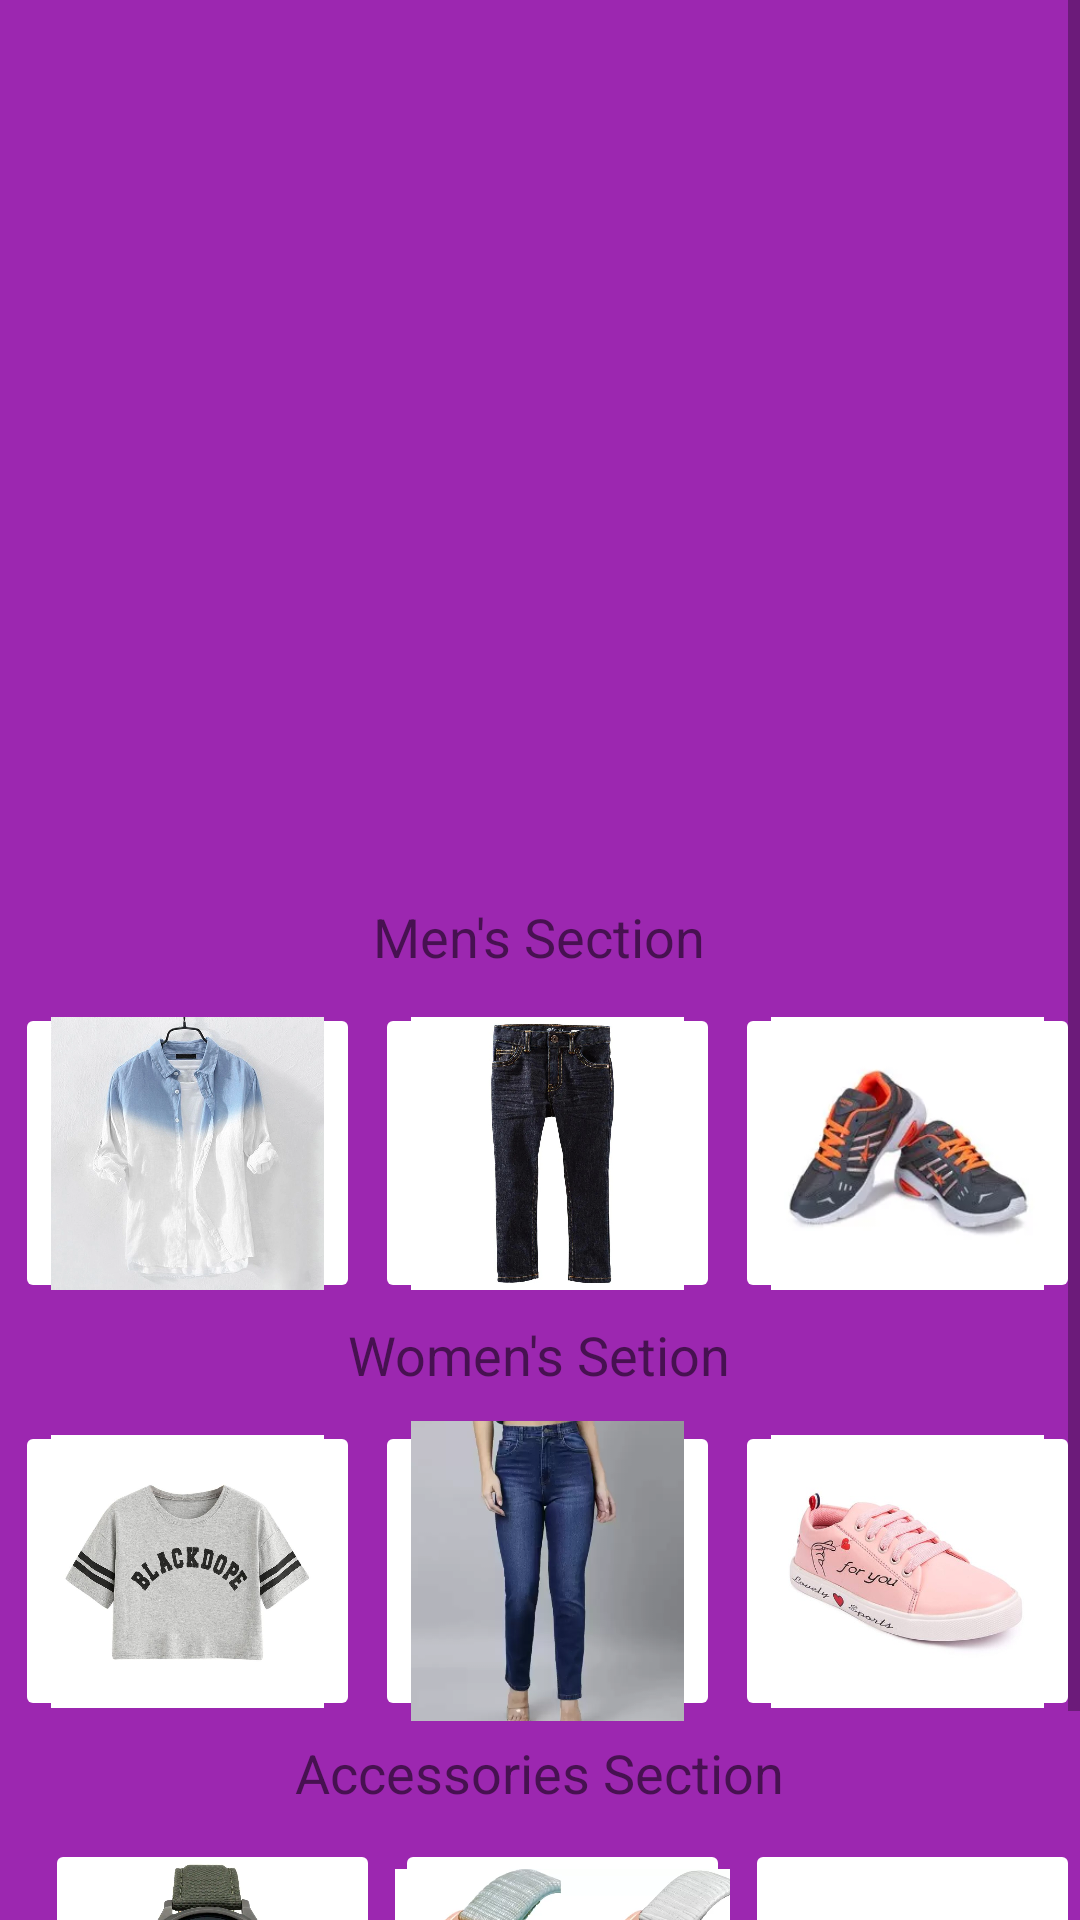

Icon bounding boxes for this 1080×1920 phone screenshot, format Rect(x1, y1, x2, y2):
jean: Rect(387, 1017, 708, 1290)
shoes: Rect(747, 1003, 1080, 1303)
